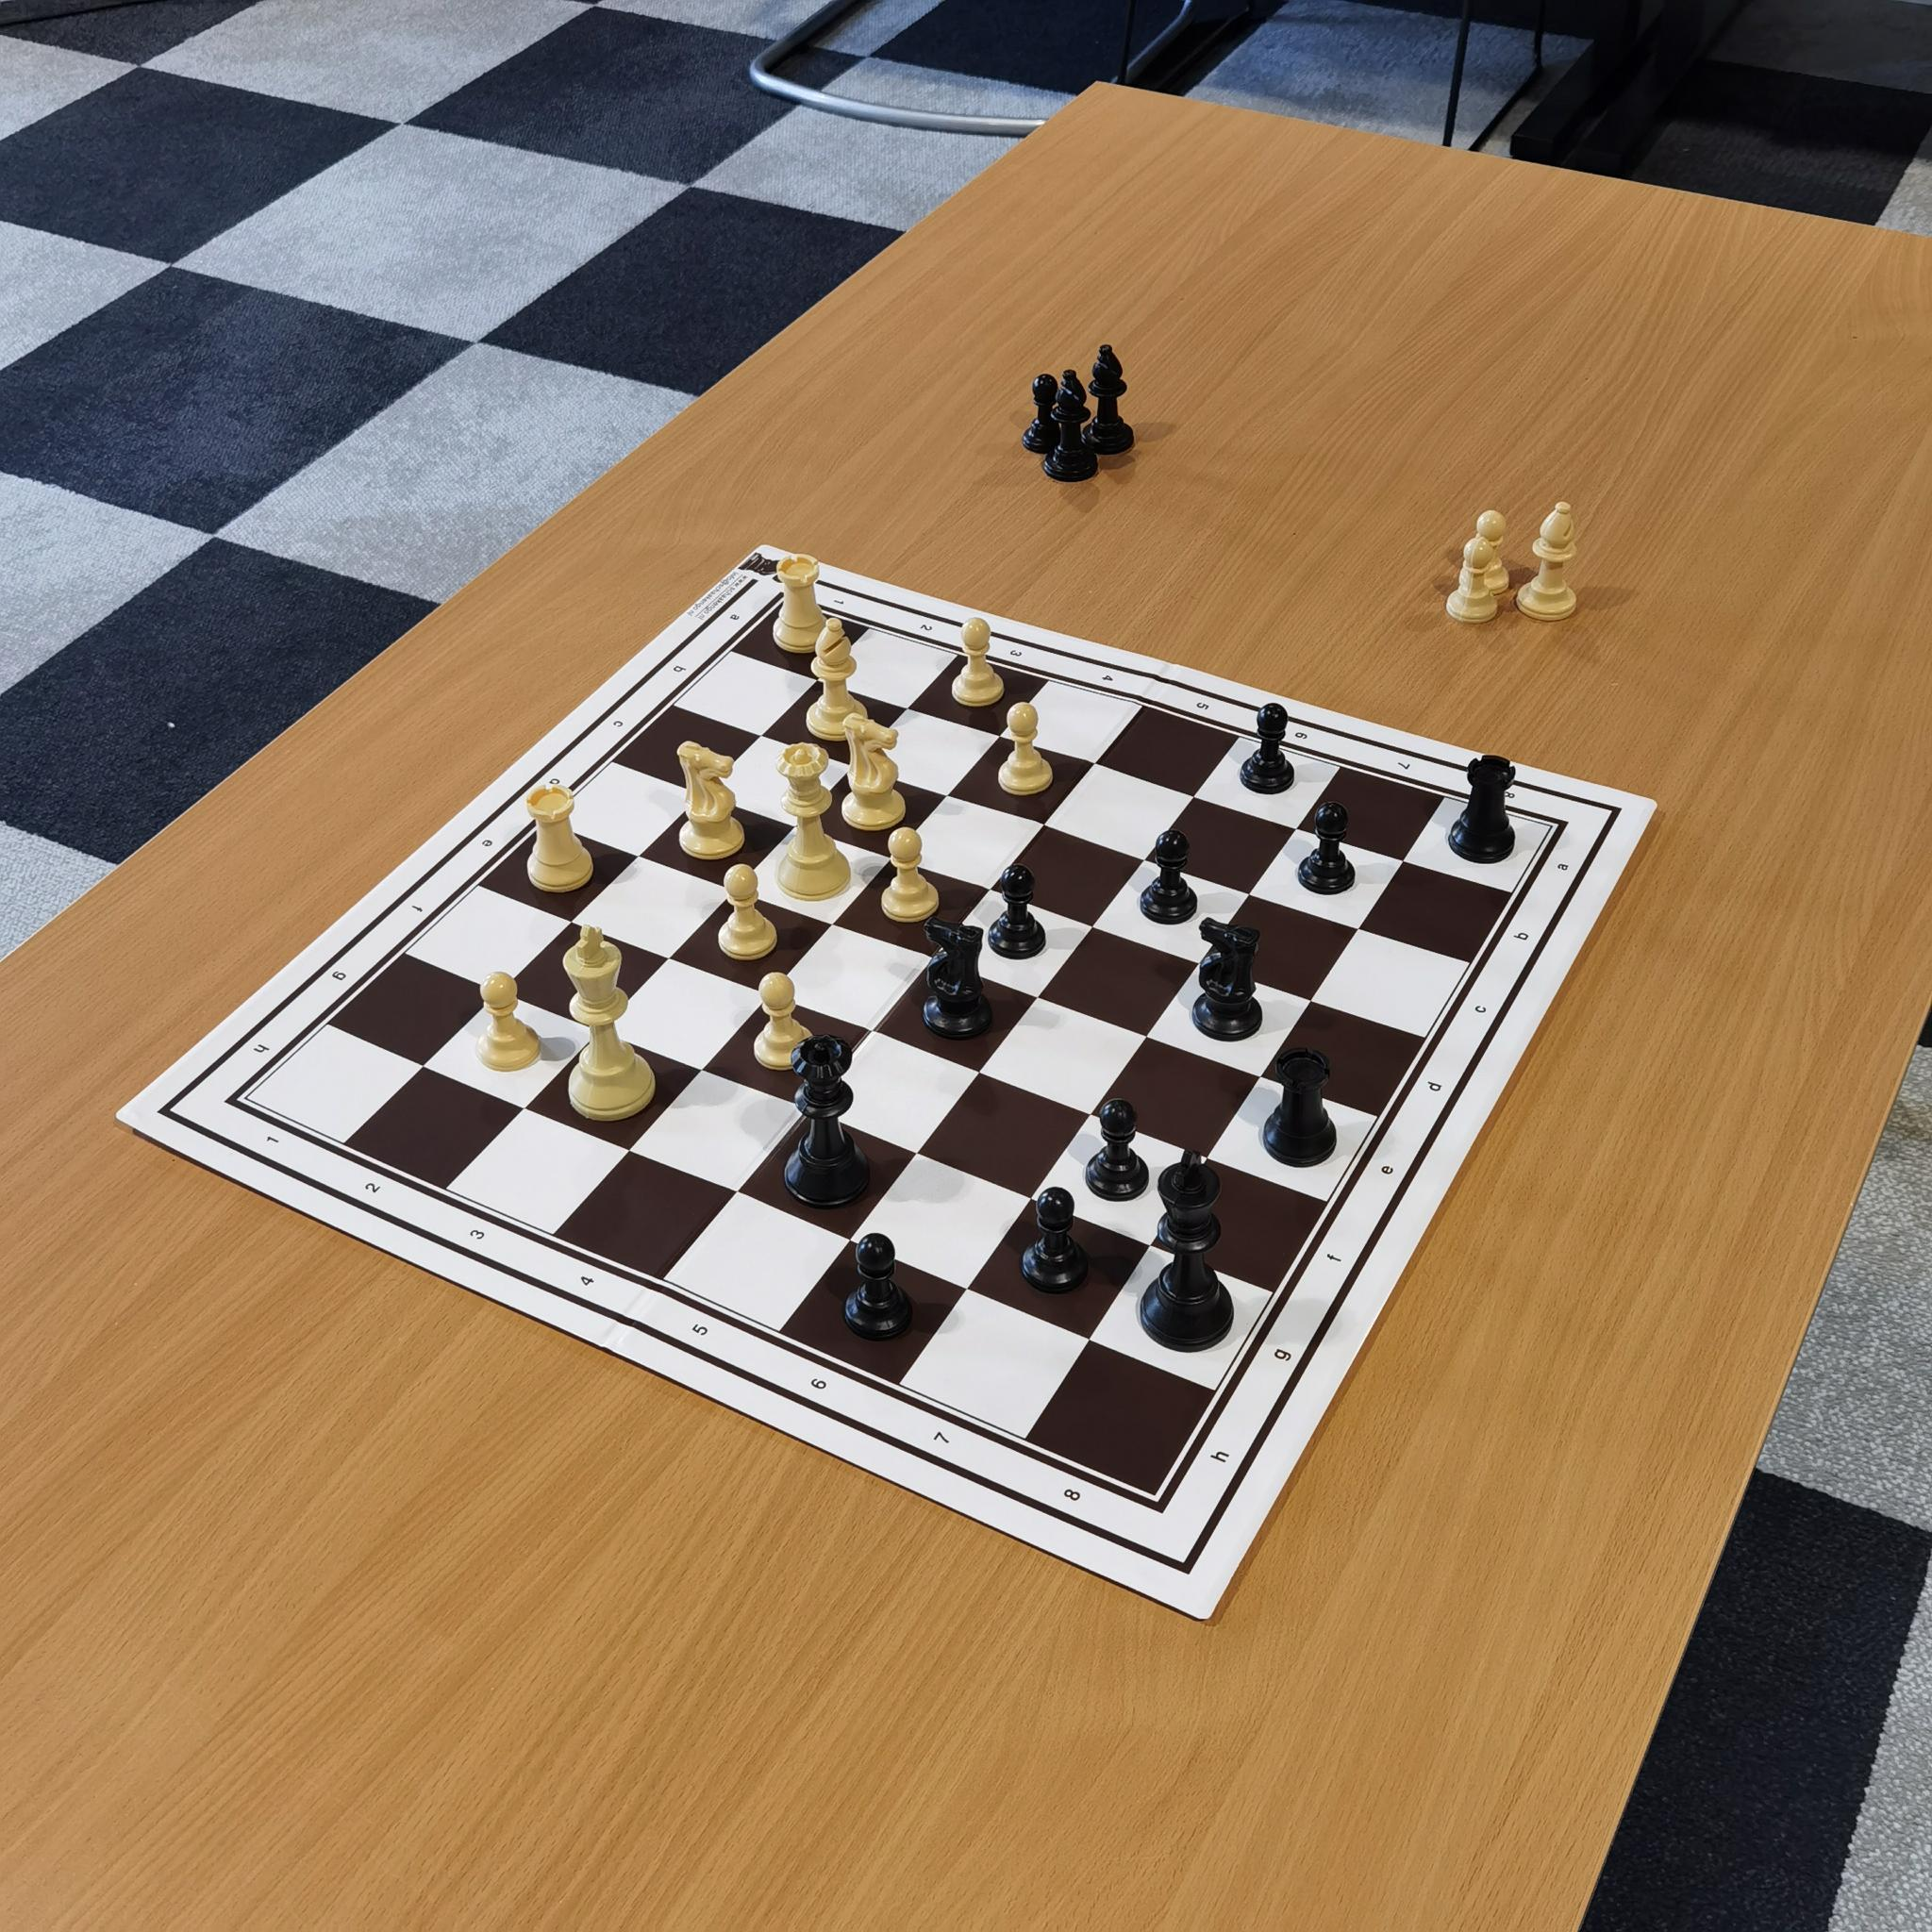corners: (1134, 1483, 1187, 1532), (209, 1081, 262, 1118), (1532, 816, 1585, 853), (768, 571, 809, 607)
eight: (1044, 1467, 1099, 1522), (1497, 773, 1532, 809)
one: (260, 1125, 297, 1159), (826, 586, 856, 616)
